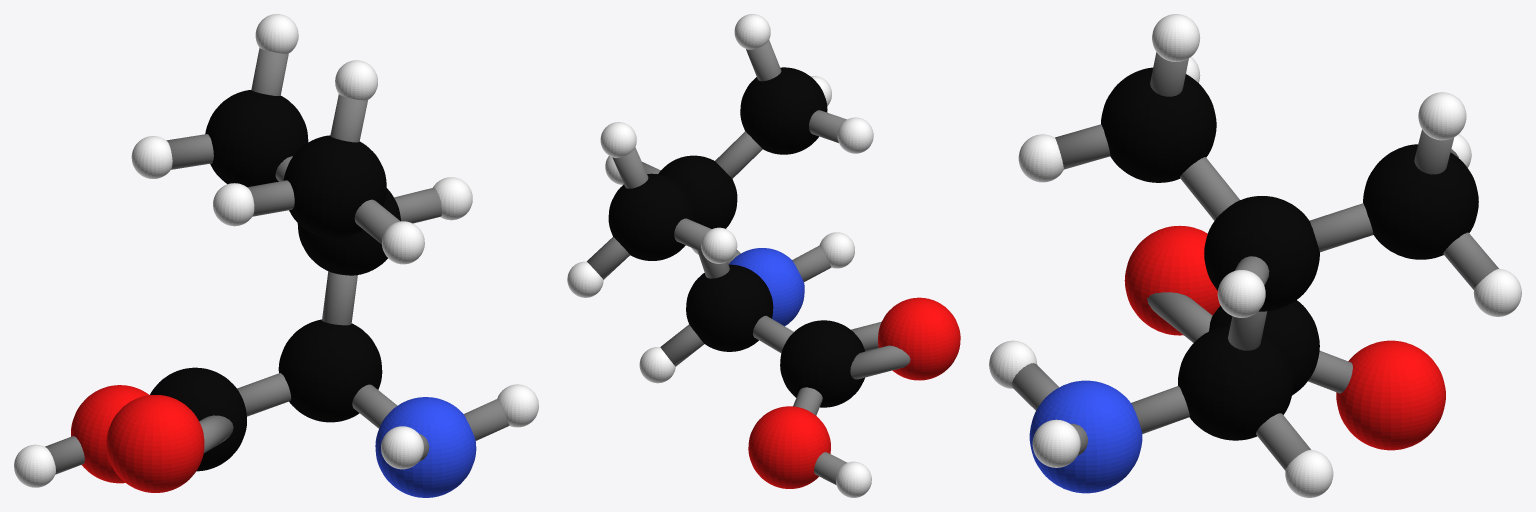
File: VALINA.obj
The picture shows the model from 3 angles, left to right: view 1: azimuth 30°, elevation 25°; view 2: azimuth 150°, elevation 25°; view 3: azimuth 270°, elevation 25°; orthographic projection. The views are drawn at different scales.
Parts seen in each view (by area): view 1: Carbon_ball_Sphere, Hydrogen_ball_Sphere.002, Oxygen_ball_Sphere.003, Nitrogen_ball_Sphere.001, Stick_Cylinder.001_Cylinder.001, Stick_Cylinder_Cylinder, Stick_Cylinder.015_Cylinder.015, Stick_Cylinder.012_Cylinder.012, Stick_Cylinder.017_Cylinder.017, Stick_Cylinder.013_Cylinder.013, Stick_Cylinder.006_Cylinder.006, Stick_Cylinder.005_Cylinder.005 (+4 smaller); view 2: Carbon_ball_Sphere, Oxygen_ball_Sphere.003, Hydrogen_ball_Sphere.002, Nitrogen_ball_Sphere.001, Stick_Cylinder.010_Cylinder.010, Stick_Cylinder.008_Cylinder.008, Stick_Cylinder.002_Cylinder.002, Stick_Cylinder.016_Cylinder.016, Stick_Cylinder_Cylinder, Stick_Cylinder.012_Cylinder.012, Stick_Cylinder.015_Cylinder.015, Stick_Cylinder.004_Cylinder.004 (+6 smaller); view 3: Carbon_ball_Sphere, Oxygen_ball_Sphere.003, Hydrogen_ball_Sphere.002, Nitrogen_ball_Sphere.001, Stick_Cylinder.009_Cylinder.009, Stick_Cylinder.018_Cylinder.018, Stick_Cylinder.008_Cylinder.008, Stick_Cylinder.003_Cylinder.003, Stick_Cylinder.011_Cylinder.011, Stick_Cylinder.016_Cylinder.016, Stick_Cylinder.002_Cylinder.002, Stick_Cylinder.004_Cylinder.004 (+4 smaller).
Part boxes in pixels (x1=…): Carbon_ball_Sphere: x1=150, y1=90, x2=400, y2=471; Hydrogen_ball_Sphere.002: x1=14, y1=14, x2=538, y2=487; Oxygen_ball_Sphere.003: x1=71, y1=385, x2=204, y2=492; Nitrogen_ball_Sphere.001: x1=375, y1=397, x2=476, y2=497; Stick_Cylinder.001_Cylinder.001: x1=322, y1=271, x2=357, y2=325; Stick_Cylinder_Cylinder: x1=237, y1=373, x2=291, y2=416; Stick_Cylinder.015_Cylinder.015: x1=251, y1=48, x2=288, y2=95; Stick_Cylinder.012_Cylinder.012: x1=330, y1=94, x2=367, y2=142; Stick_Cylinder.017_Cylinder.017: x1=166, y1=134, x2=213, y2=169; Stick_Cylinder.013_Cylinder.013: x1=247, y1=180, x2=294, y2=216; Stick_Cylinder.006_Cylinder.006: x1=394, y1=187, x2=441, y2=223; Stick_Cylinder.005_Cylinder.005: x1=464, y1=399, x2=509, y2=440; Carbon_ball_Sphere: x1=608, y1=67, x2=865, y2=407; Oxygen_ball_Sphere.003: x1=748, y1=297, x2=960, y2=488; Hydrogen_ball_Sphere.002: x1=567, y1=14, x2=873, y2=497; Nitrogen_ball_Sphere.001: x1=728, y1=248, x2=804, y2=326; Stick_Cylinder.010_Cylinder.010: x1=850, y1=345, x2=910, y2=379; Stick_Cylinder.008_Cylinder.008: x1=715, y1=131, x2=762, y2=178; Stick_Cylinder.002_Cylinder.002: x1=660, y1=324, x2=704, y2=366; Stick_Cylinder.016_Cylinder.016: x1=587, y1=237, x2=629, y2=279; Stick_Cylinder_Cylinder: x1=753, y1=315, x2=793, y2=352; Stick_Cylinder.012_Cylinder.012: x1=746, y1=40, x2=781, y2=81; Stick_Cylinder.015_Cylinder.015: x1=612, y1=147, x2=648, y2=188; Stick_Cylinder.004_Cylinder.004: x1=792, y1=245, x2=831, y2=281; Carbon_ball_Sphere: x1=1101, y1=67, x2=1478, y2=440; Oxygen_ball_Sphere.003: x1=1124, y1=225, x2=1445, y2=450; Hydrogen_ball_Sphere.002: x1=989, y1=14, x2=1521, y2=497; Nitrogen_ball_Sphere.001: x1=1029, y1=380, x2=1142, y2=493; Stick_Cylinder.009_Cylinder.009: x1=1309, y1=203, x2=1373, y2=252; Stick_Cylinder.018_Cylinder.018: x1=1147, y1=292, x2=1212, y2=342; Stick_Cylinder.008_Cylinder.008: x1=1180, y1=157, x2=1239, y2=220; Stick_Cylinder.003_Cylinder.003: x1=1131, y1=386, x2=1189, y2=433; Stick_Cylinder.011_Cylinder.011: x1=1055, y1=124, x2=1110, y2=169; Stick_Cylinder.016_Cylinder.016: x1=1443, y1=232, x2=1498, y2=289; Stick_Cylinder.002_Cylinder.002: x1=1256, y1=413, x2=1310, y2=470; Stick_Cylinder.004_Cylinder.004: x1=1011, y1=363, x2=1059, y2=410.
Size of the model in its own units: 5.93 by 6.67 by 6.38.
